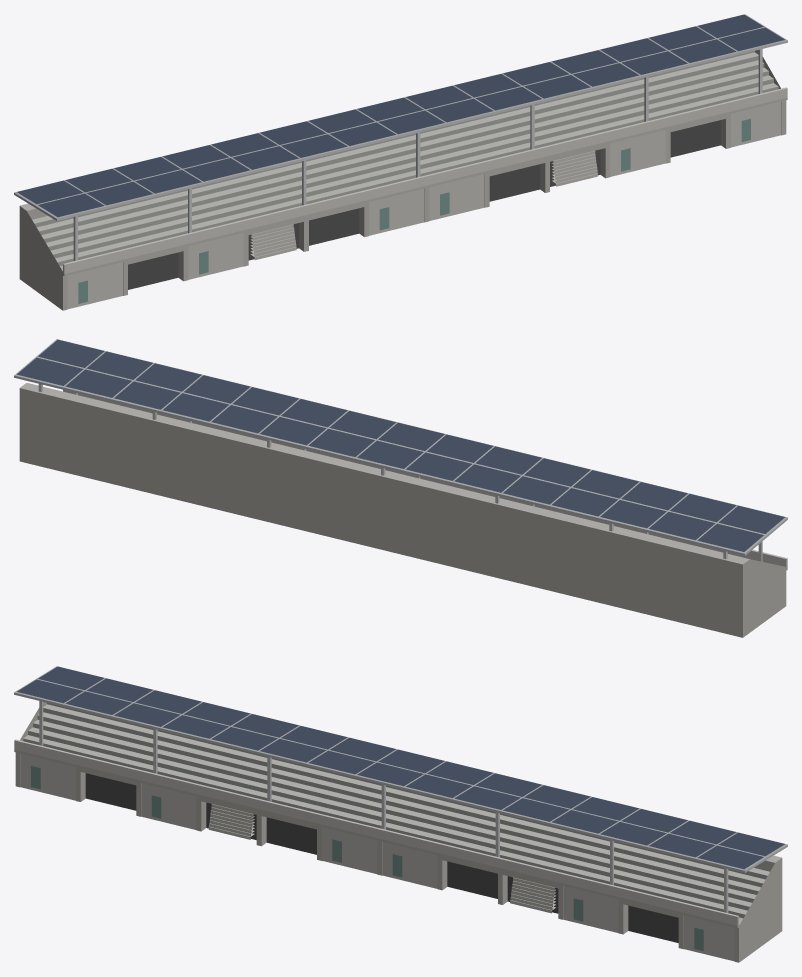
The picture shows the model from 3 angles, top to bottom: view 1: azimuth 30°, elevation 25°; view 2: azimuth 150°, elevation 25°; view 3: azimuth 330°, elevation 25°; orthographic projection.
Visible parts, largest first — view 1: fieldStand__solar, fieldStand__seat, fieldStand__riser, fieldStand__panel, fieldStand__concrete, fieldStand__parapet, fieldStand__shade, fieldStand__roofTop, fieldStand__step, fieldStand__roofEdge, fieldStand__column, fieldStand__door; view 2: fieldStand__concrete, fieldStand__solar, fieldStand__roofTop, fieldStand__roofEdge, fieldStand__parapet; view 3: fieldStand__solar, fieldStand__seat, fieldStand__riser, fieldStand__panel, fieldStand__concrete, fieldStand__parapet, fieldStand__shade, fieldStand__roofTop, fieldStand__step, fieldStand__roofEdge, fieldStand__column, fieldStand__door.
Part boxes in pixels (bbox=[...]): fieldStand__solar: bbox=[17, 14, 784, 217]; fieldStand__seat: bbox=[32, 52, 778, 262]; fieldStand__riser: bbox=[34, 51, 778, 265]; fieldStand__panel: bbox=[67, 101, 781, 309]; fieldStand__concrete: bbox=[19, 50, 787, 310]; fieldStand__parapet: bbox=[63, 87, 787, 273]; fieldStand__shade: bbox=[128, 120, 720, 289]; fieldStand__roofTop: bbox=[14, 14, 787, 218]; fieldStand__step: bbox=[250, 151, 597, 260]; fieldStand__roofEdge: bbox=[14, 40, 787, 220]; fieldStand__column: bbox=[73, 49, 762, 260]; fieldStand__door: bbox=[78, 119, 750, 303]; fieldStand__concrete: bbox=[19, 383, 787, 637]; fieldStand__solar: bbox=[17, 339, 784, 551]; fieldStand__roofTop: bbox=[14, 339, 787, 553]; fieldStand__roofEdge: bbox=[14, 375, 787, 555]; fieldStand__parapet: bbox=[63, 389, 787, 566]; fieldStand__solar: bbox=[17, 666, 784, 869]; fieldStand__seat: bbox=[23, 704, 769, 914]; fieldStand__riser: bbox=[23, 703, 767, 918]; fieldStand__panel: bbox=[20, 753, 734, 961]; fieldStand__concrete: bbox=[14, 702, 782, 962]; fieldStand__parapet: bbox=[14, 739, 738, 925]; fieldStand__shade: bbox=[85, 773, 678, 942]; fieldStand__roofTop: bbox=[14, 666, 787, 870]; fieldStand__step: bbox=[208, 804, 555, 913]; fieldStand__roofEdge: bbox=[14, 692, 787, 872]; fieldStand__column: bbox=[39, 701, 728, 912]; fieldStand__door: bbox=[31, 766, 703, 950].
Size of the model in its own units: 75.8 by 9.09 by 8.35.
